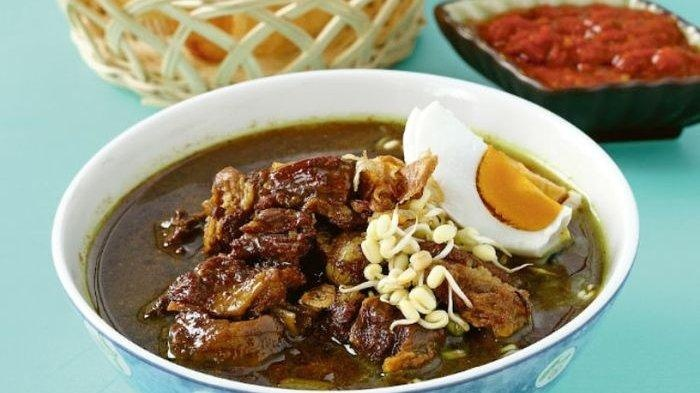rawon: (66, 123, 598, 371)
